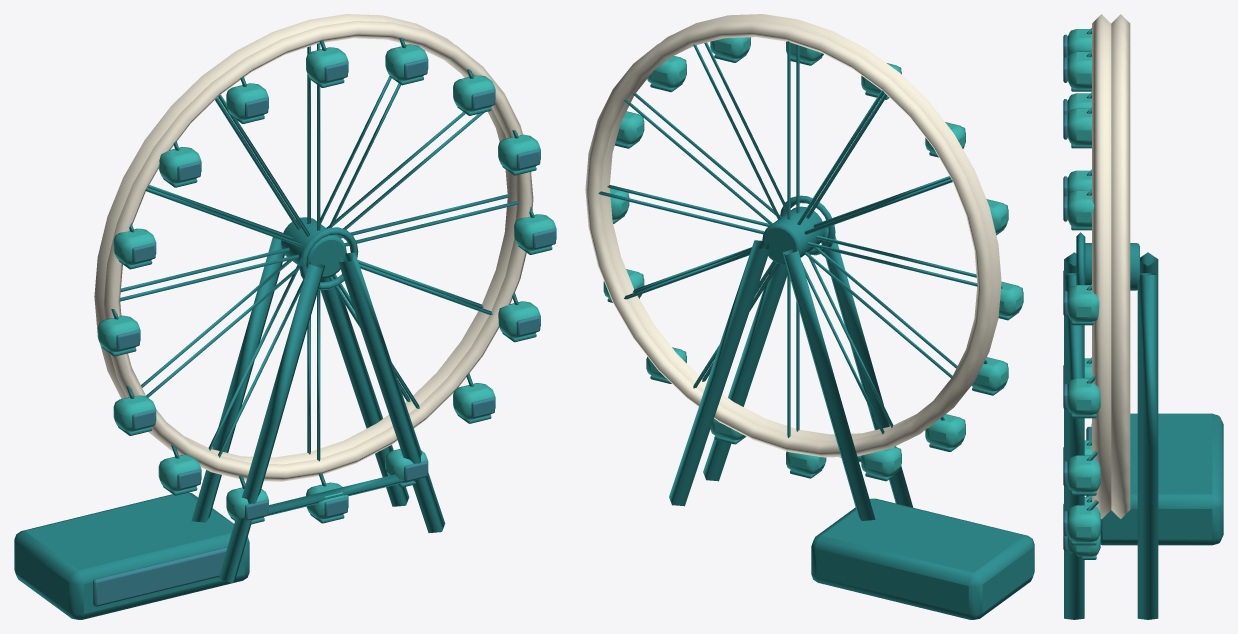
The model's file is flyer-v2.glb.
3 renders of one model, left to right at view 1: azimuth 30°, elevation 25°; view 2: azimuth 150°, elevation 25°; view 3: azimuth 270°, elevation 25°, orthographic. The views are drawn at different scales.
Visible parts, largest first — view 1: SINGAPORE FLYER ASSEMBLY · Deep teal, SINGAPORE FLYER ASSEMBLY · Chalk, SINGAPORE FLYER ASSEMBLY · Weathered teal, SINGAPORE FLYER ASSEMBLY · Graphic glass; view 2: SINGAPORE FLYER ASSEMBLY · Deep teal, SINGAPORE FLYER ASSEMBLY · Chalk, SINGAPORE FLYER ASSEMBLY · Weathered teal; view 3: SINGAPORE FLYER ASSEMBLY · Deep teal, SINGAPORE FLYER ASSEMBLY · Chalk, SINGAPORE FLYER ASSEMBLY · Weathered teal, SINGAPORE FLYER ASSEMBLY · Graphic glass.
Part boxes in pixels (bbox=[...]): SINGAPORE FLYER ASSEMBLY · Deep teal: bbox=[14, 37, 552, 619]; SINGAPORE FLYER ASSEMBLY · Chalk: bbox=[94, 14, 533, 481]; SINGAPORE FLYER ASSEMBLY · Weathered teal: bbox=[97, 44, 556, 520]; SINGAPORE FLYER ASSEMBLY · Graphic glass: bbox=[93, 59, 555, 606]; SINGAPORE FLYER ASSEMBLY · Deep teal: bbox=[598, 41, 1034, 619]; SINGAPORE FLYER ASSEMBLY · Chalk: bbox=[585, 14, 1001, 457]; SINGAPORE FLYER ASSEMBLY · Weathered teal: bbox=[603, 37, 1023, 476]; SINGAPORE FLYER ASSEMBLY · Deep teal: bbox=[1064, 28, 1223, 619]; SINGAPORE FLYER ASSEMBLY · Chalk: bbox=[1092, 14, 1130, 519]; SINGAPORE FLYER ASSEMBLY · Weathered teal: bbox=[1067, 29, 1100, 556]; SINGAPORE FLYER ASSEMBLY · Graphic glass: bbox=[1063, 34, 1091, 550].
Size of the model in its own units: 6.99 by 7.55 by 2.
